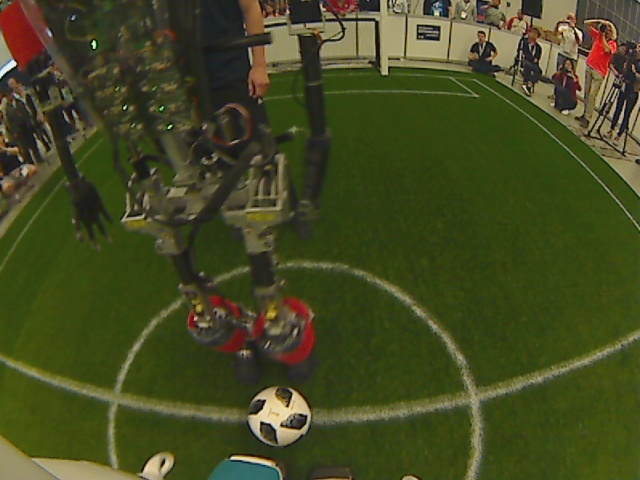ball: (243, 381, 316, 450)
